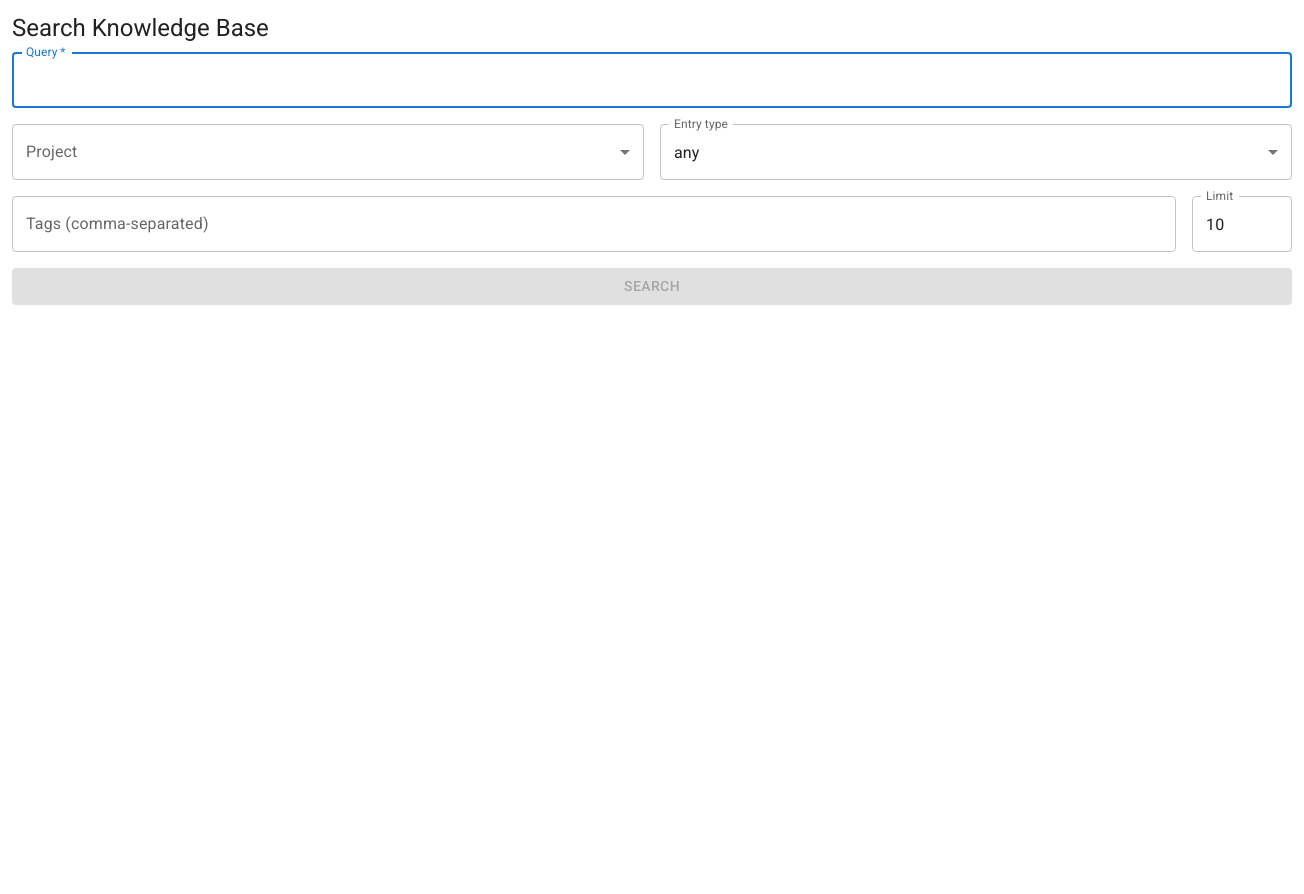
Test: Search page › counts the rendered results, not filtered_count
The width and height of the screenshot is (1304, 894).
Type "test" into the field labelled "Query *" at (652, 80), box [12, 52, 1292, 108]
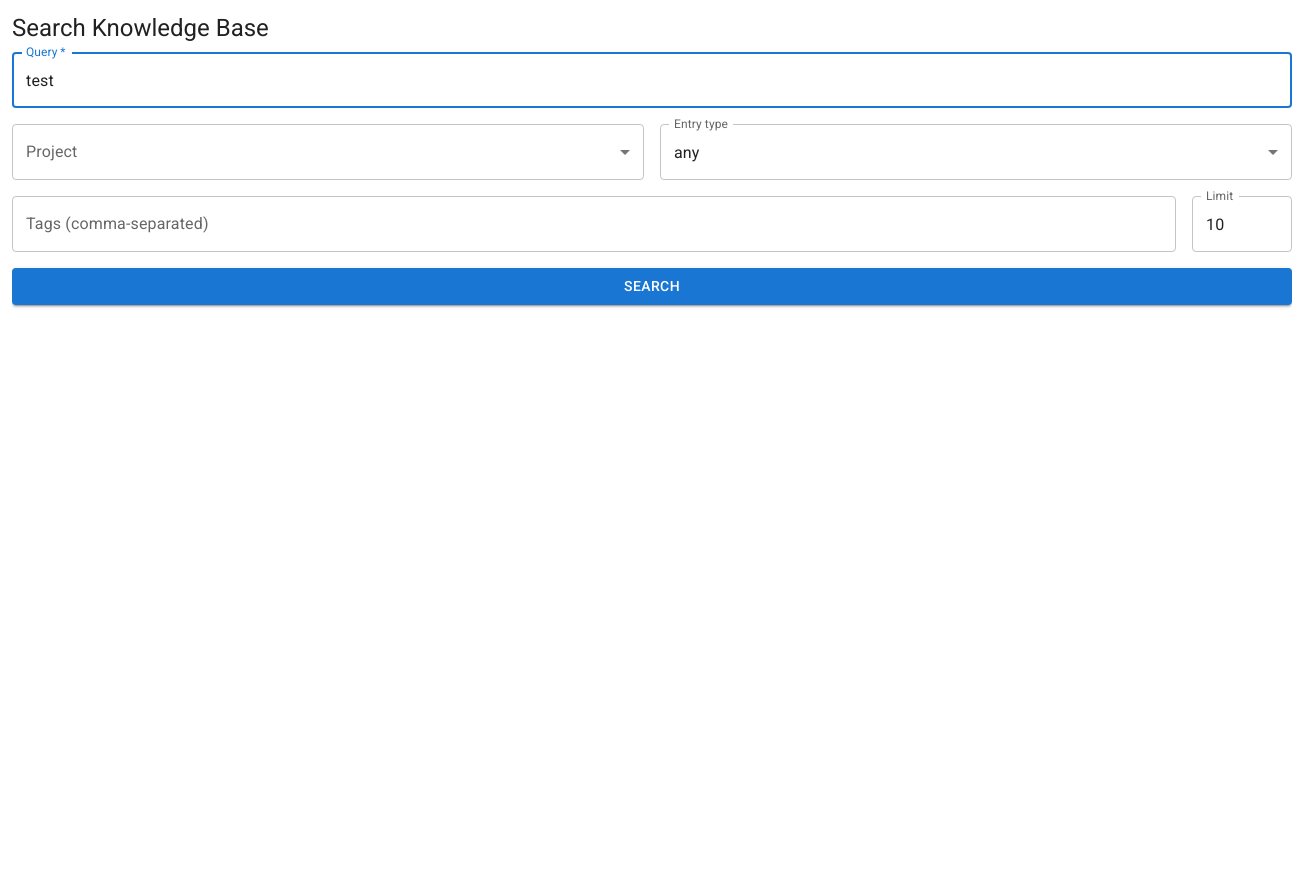
Click the button "Search" at (652, 287), box [12, 268, 1292, 305]
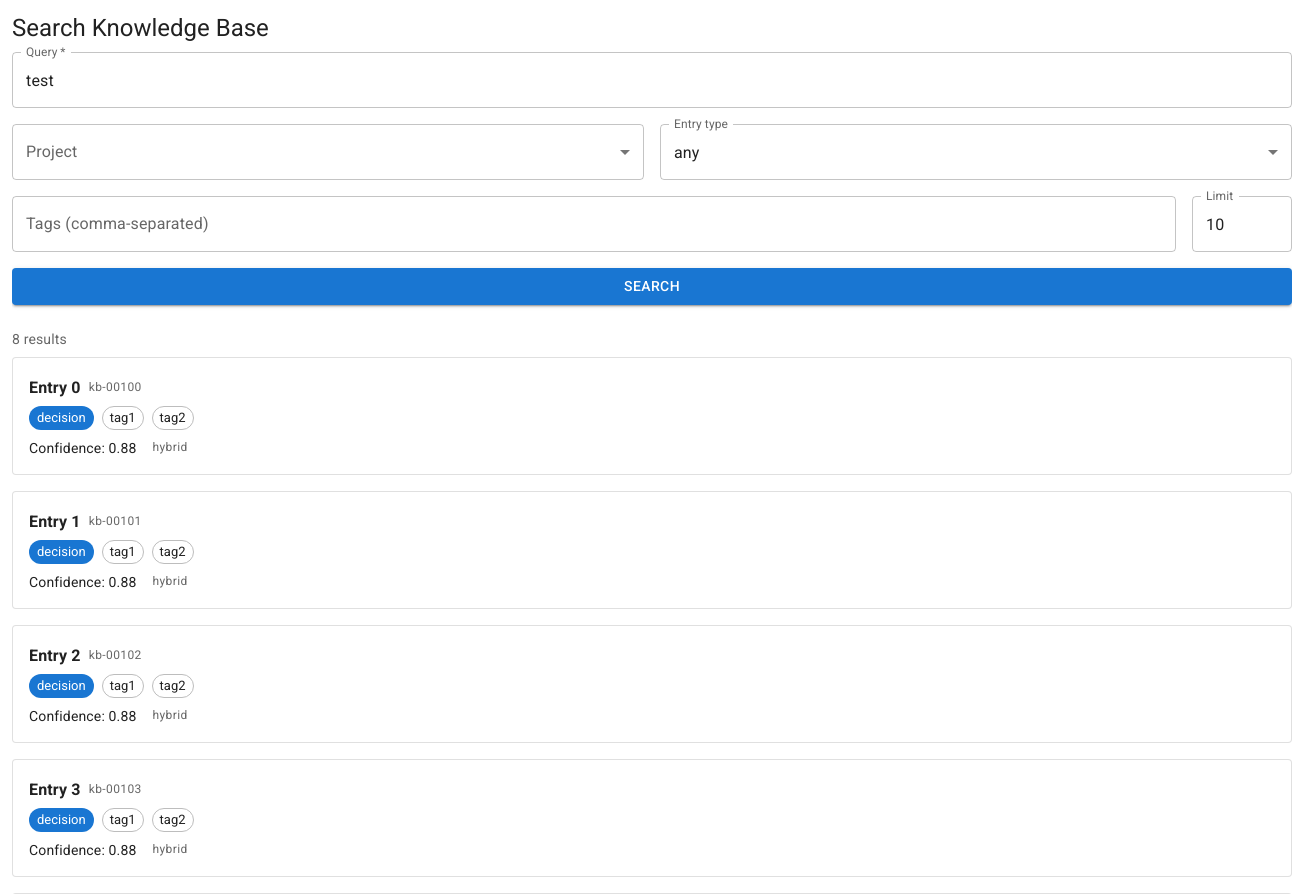
Check: the text "8 results" is shown, box [12, 331, 67, 347]
